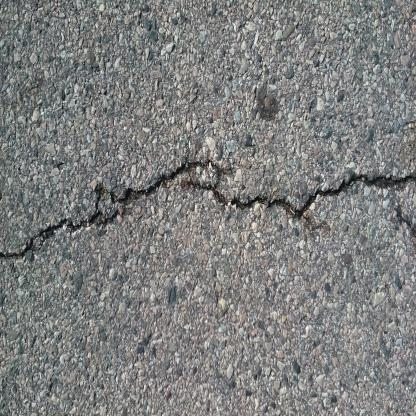Cracks: (0, 136, 415, 266)
